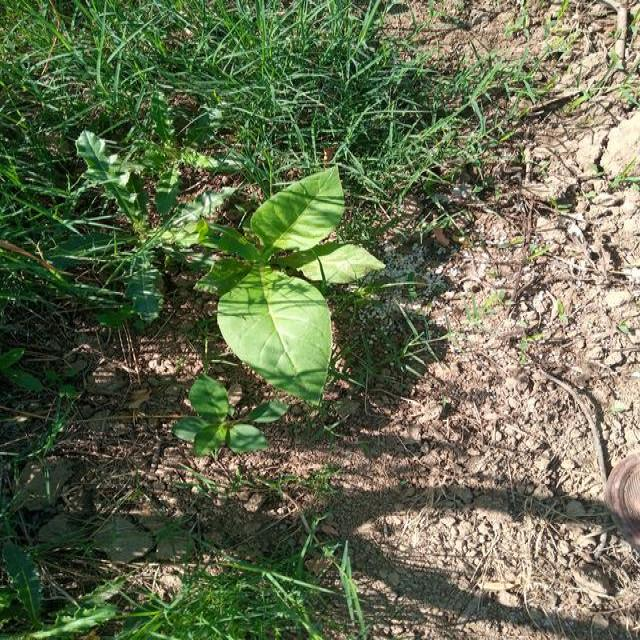crop: (204, 180, 375, 386)
